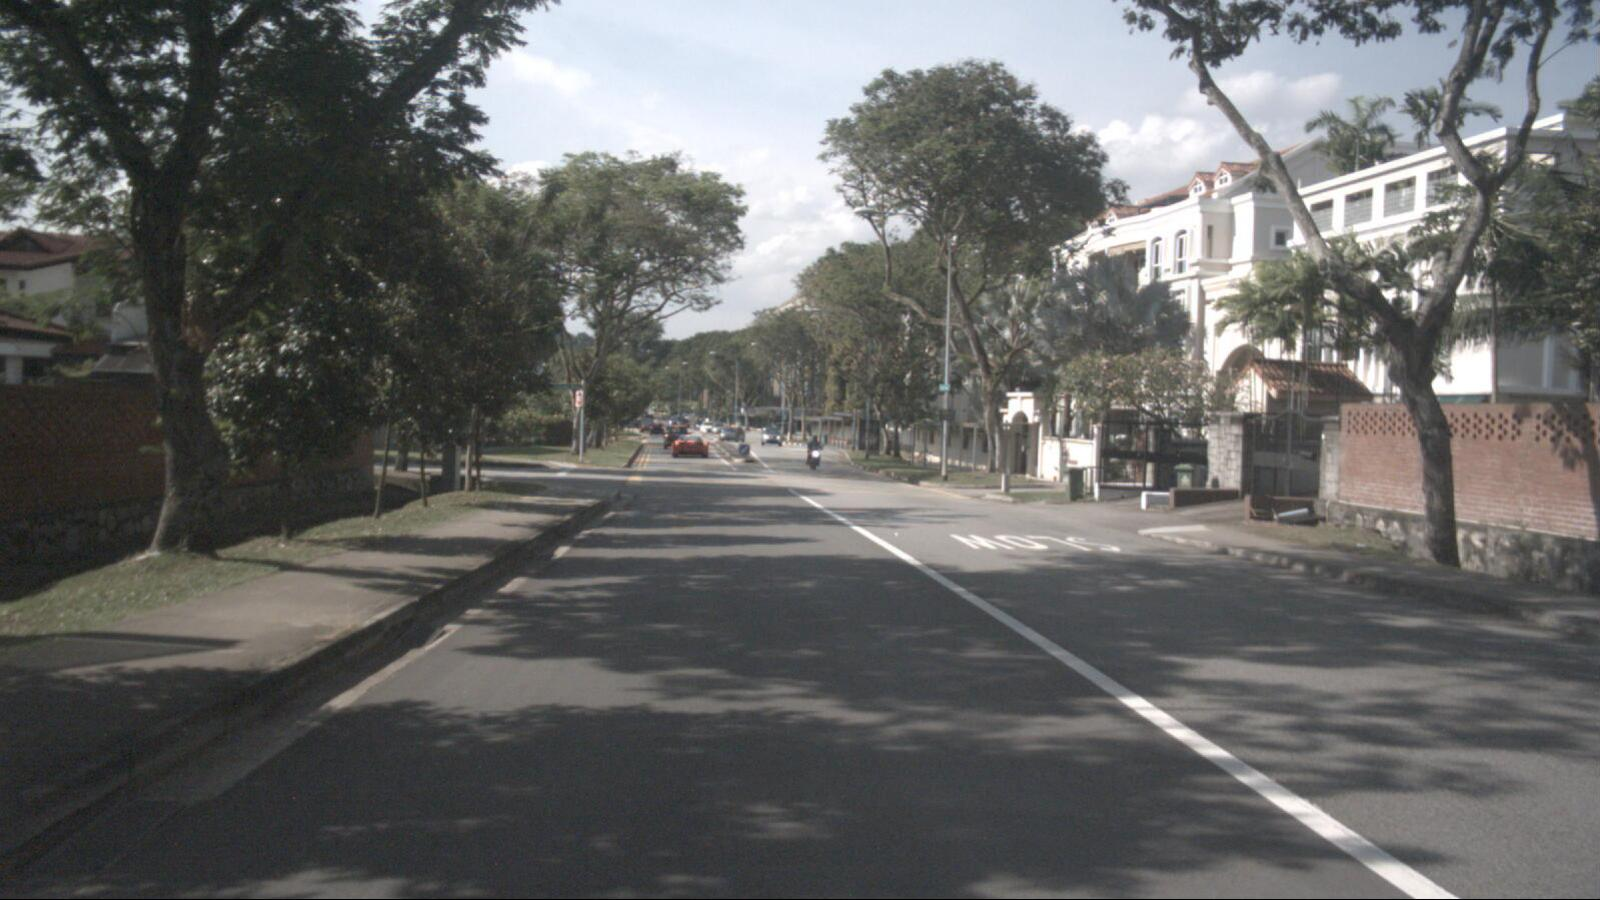vehicle.motorcycle-cycle.with_rider: (805, 435, 826, 471)
